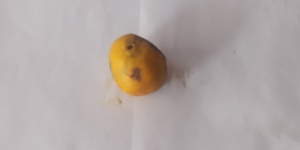BAD: (108, 31, 168, 97)
